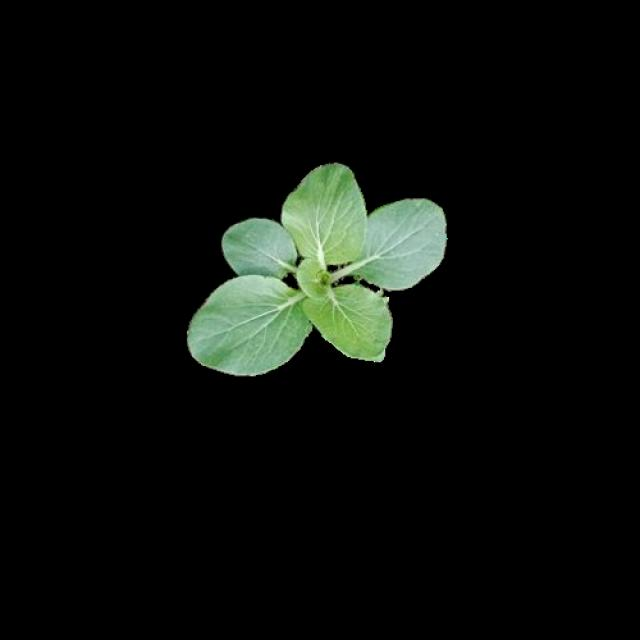healthy: (187, 160, 447, 378)
not-mature: (187, 163, 447, 380)
